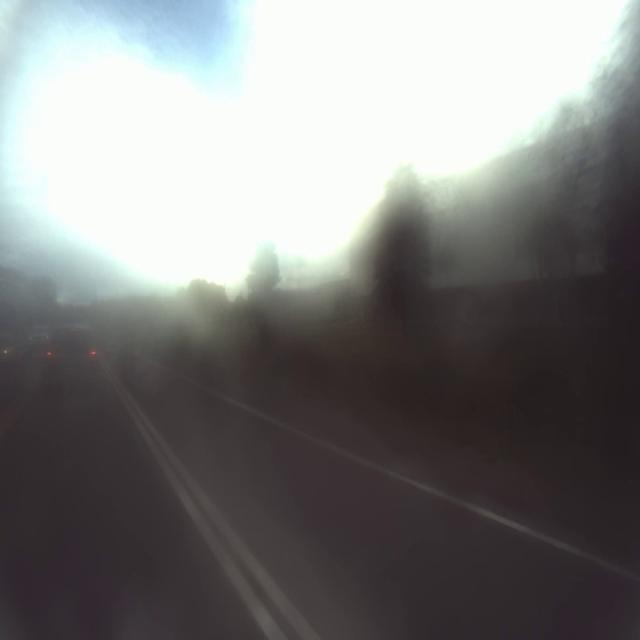car: (37, 321, 114, 378)
